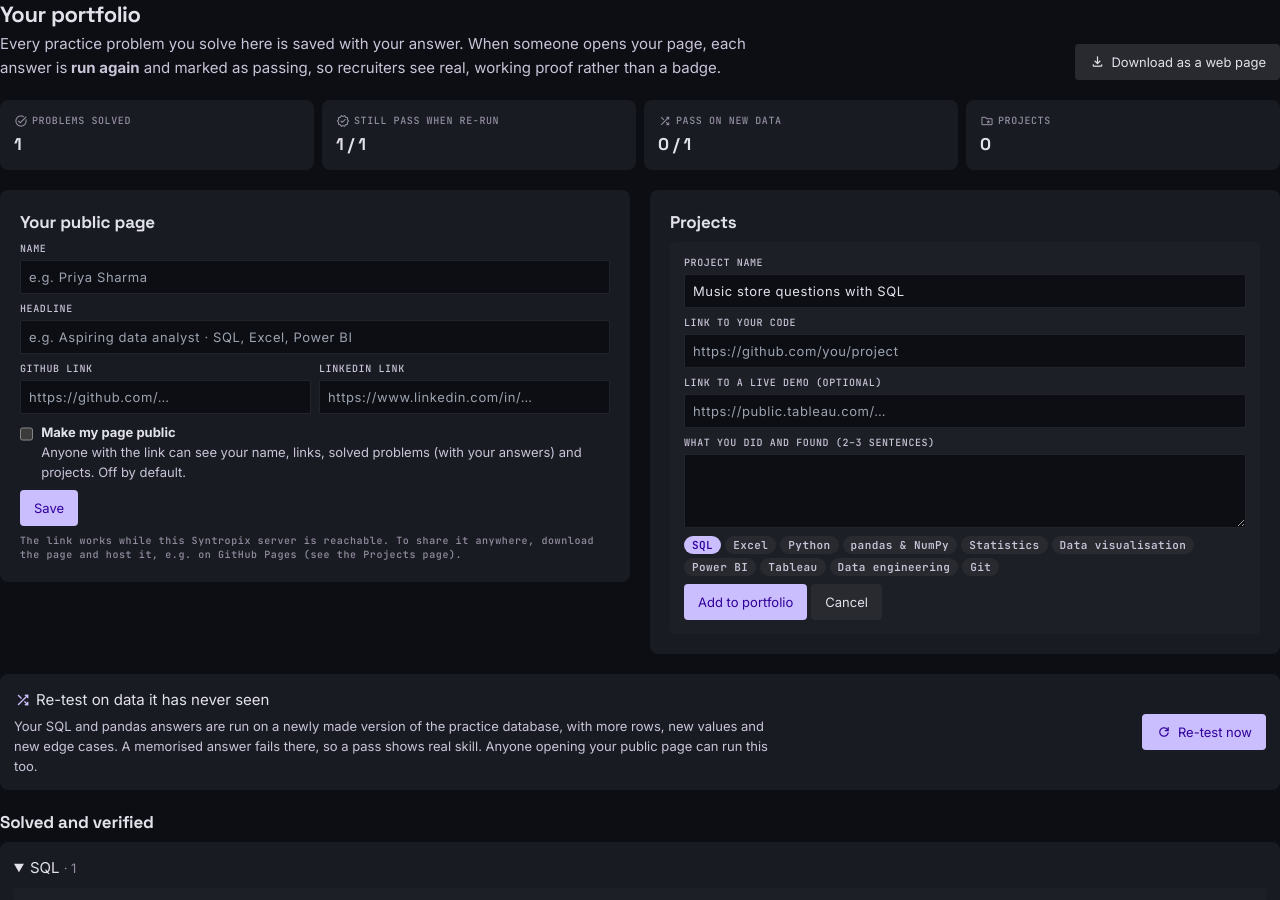
Scenario: portfolio › shows re-checked solves, publishes on consent and adds a project from the Projects page
Expected: the link "Open my public page" is not shown
Type "Ada" into the field labelled "Name" at (315, 277), box left=20, top=260, right=610, bottom=294
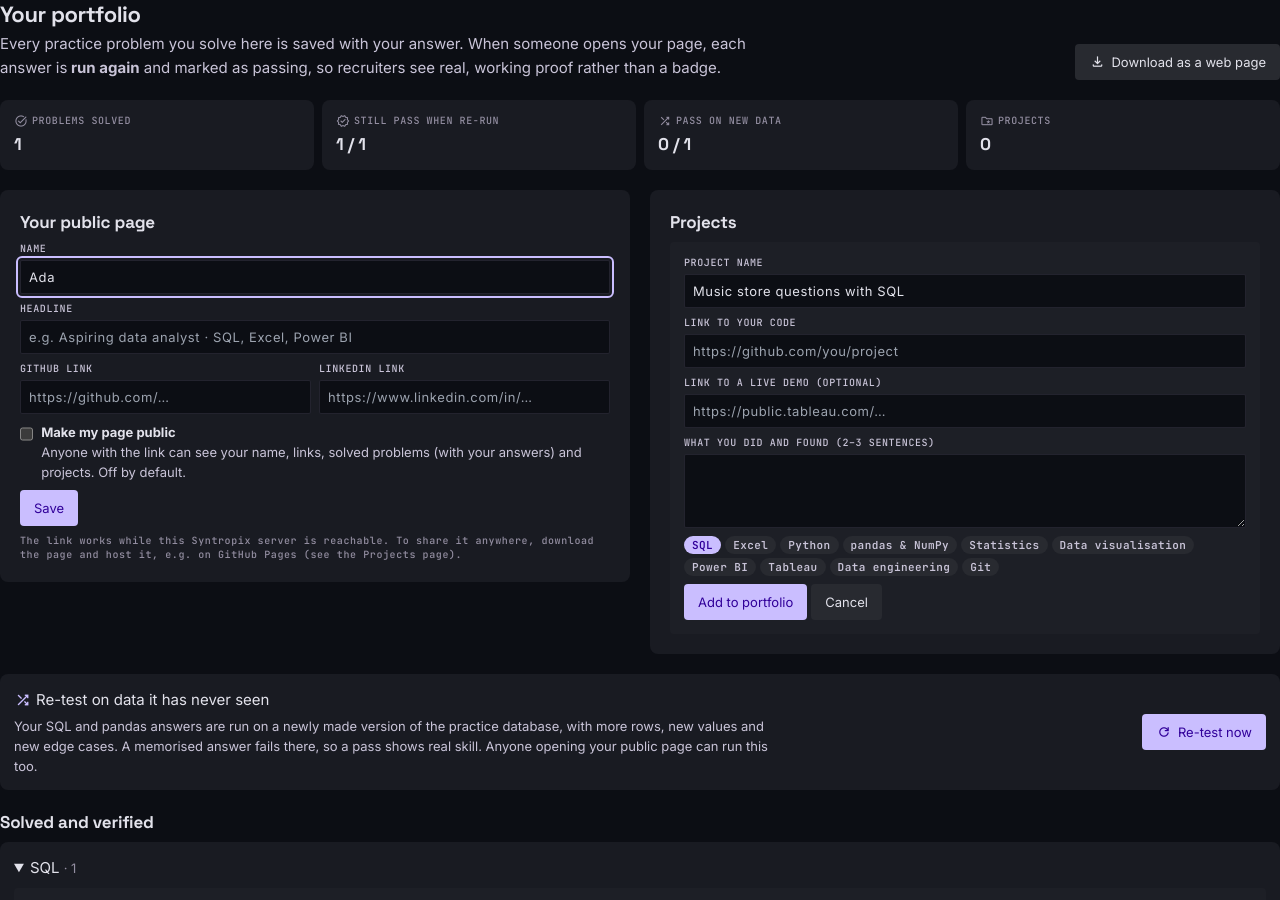
Click the checkbox labelled "Make my page public" at (27, 434), box left=20, top=426, right=33, bottom=442
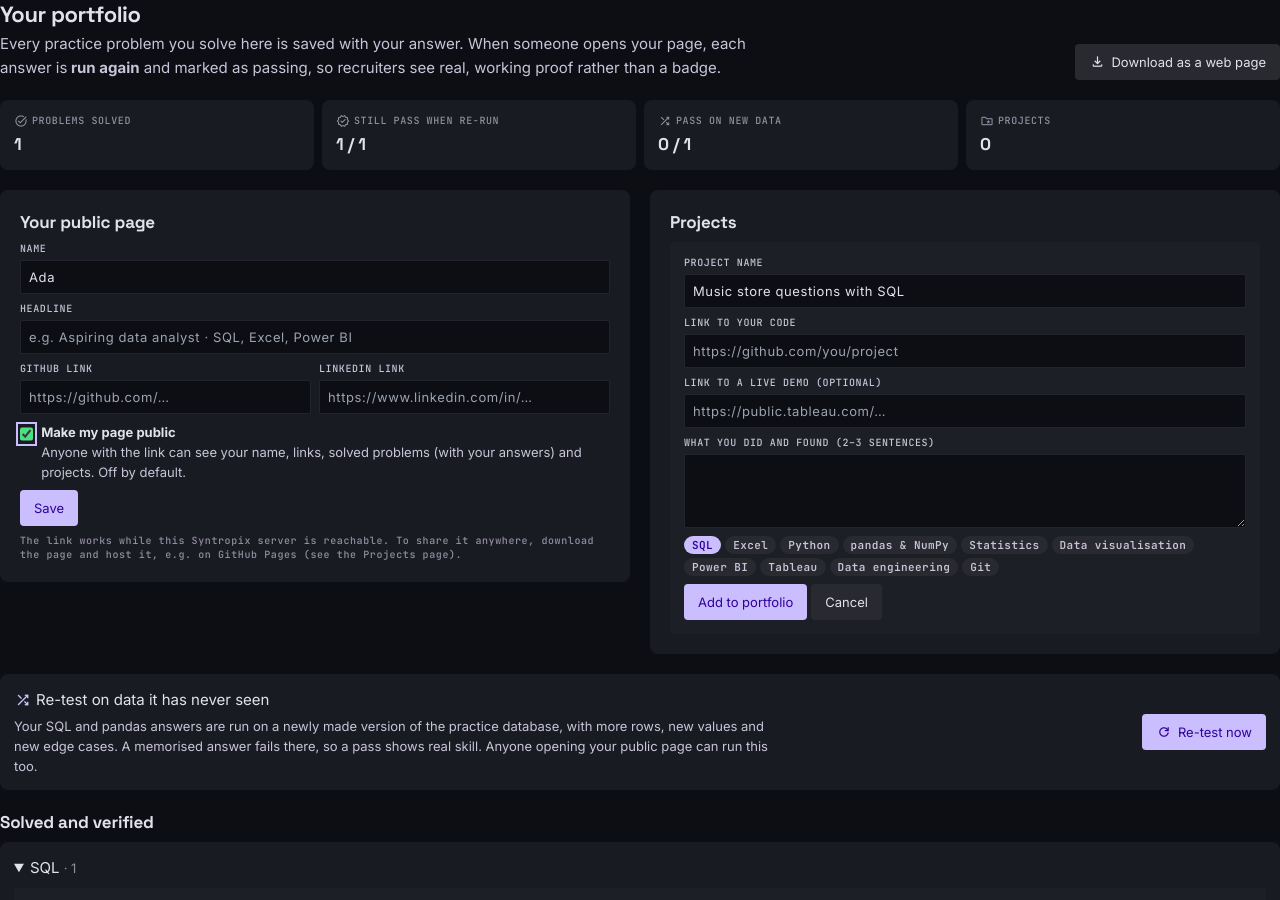
Click the button "Save" at (49, 508), box left=20, top=490, right=78, bottom=526
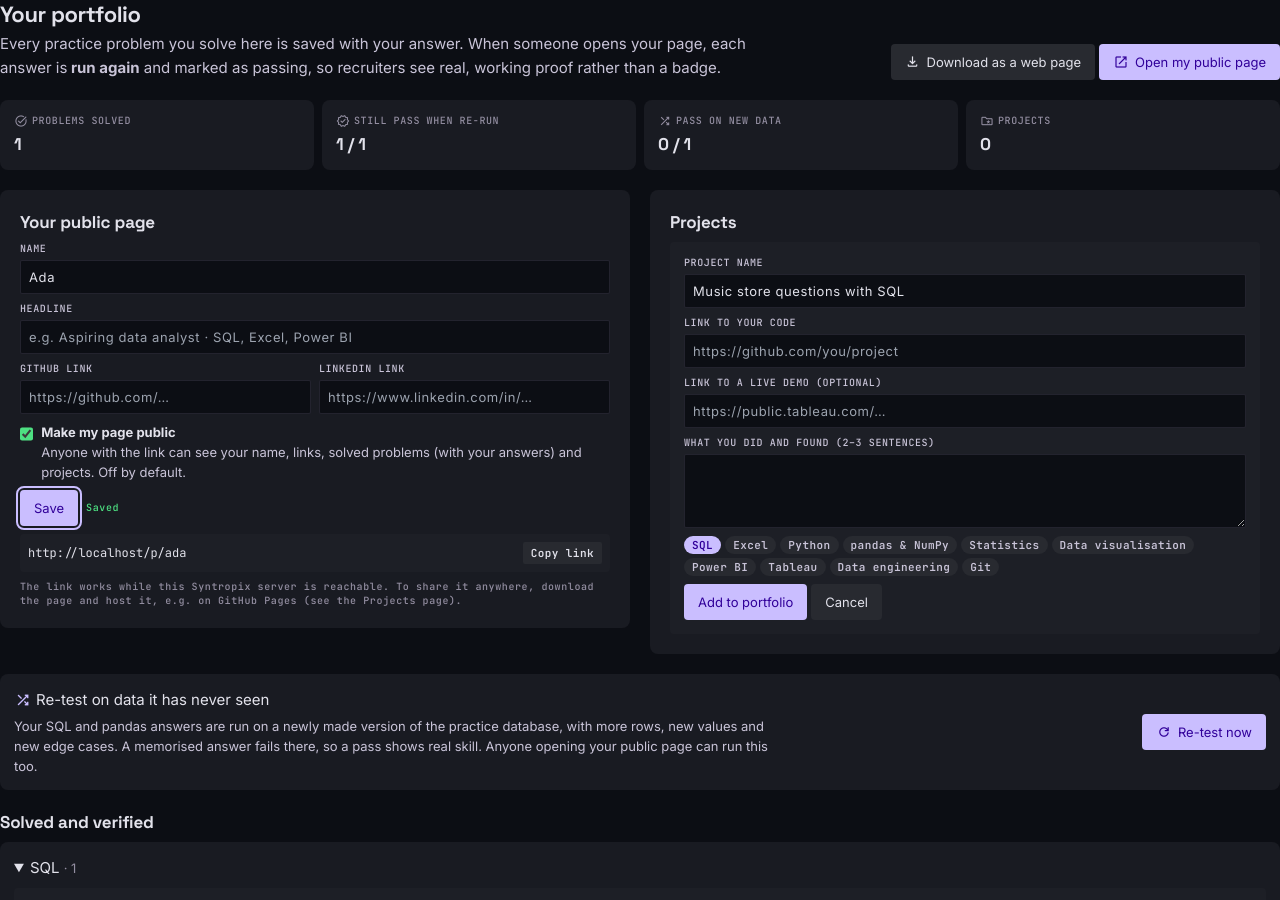
Expected: the field labelled "Project name" holds "Music store questions with SQL", left=684, top=274, right=1246, bottom=308
Type "https://github.com/ada/chinook" into the field labelled "Link to your code" at (965, 351), box left=684, top=334, right=1246, bottom=368
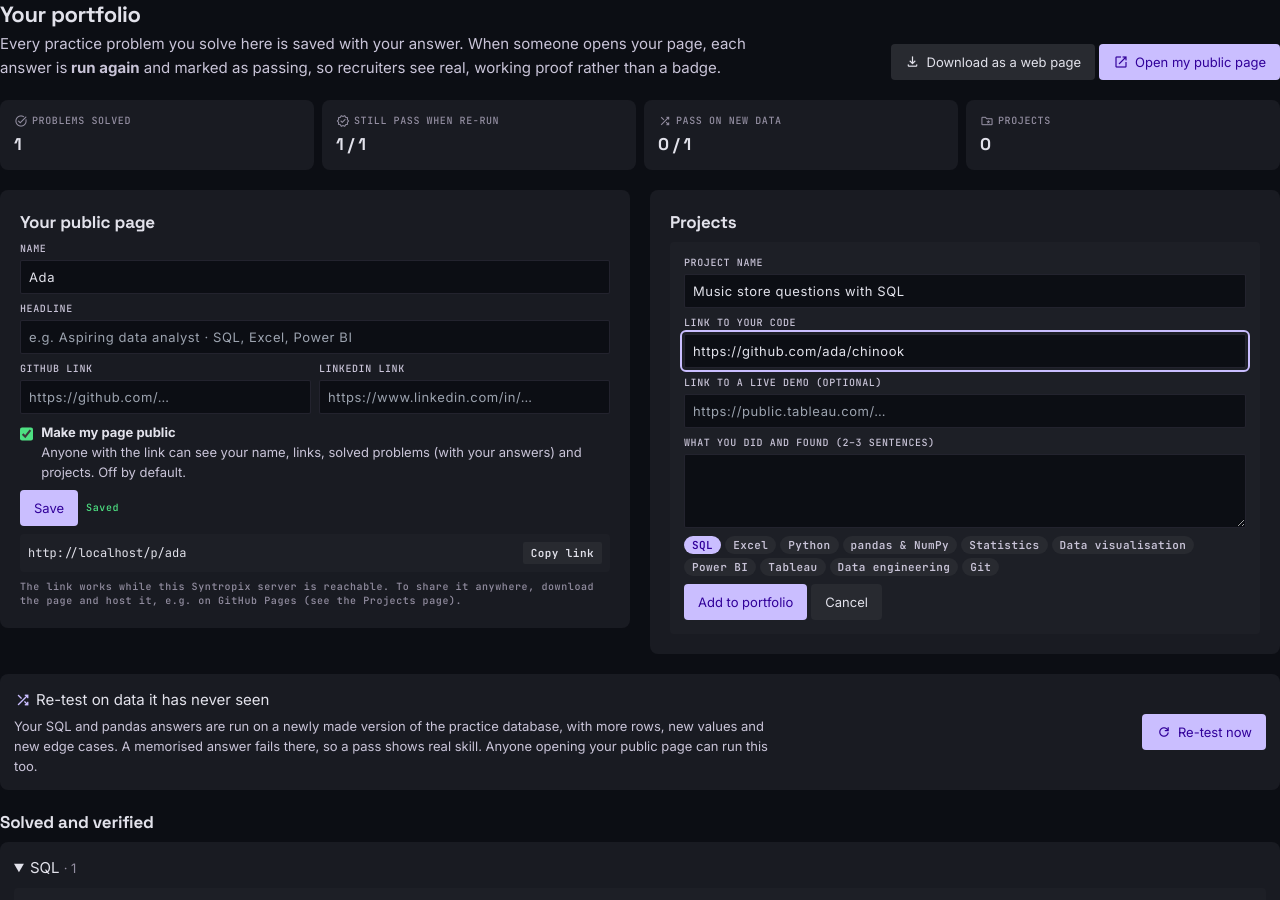
Click the button "Add to portfolio" at (746, 602), box left=684, top=584, right=807, bottom=620
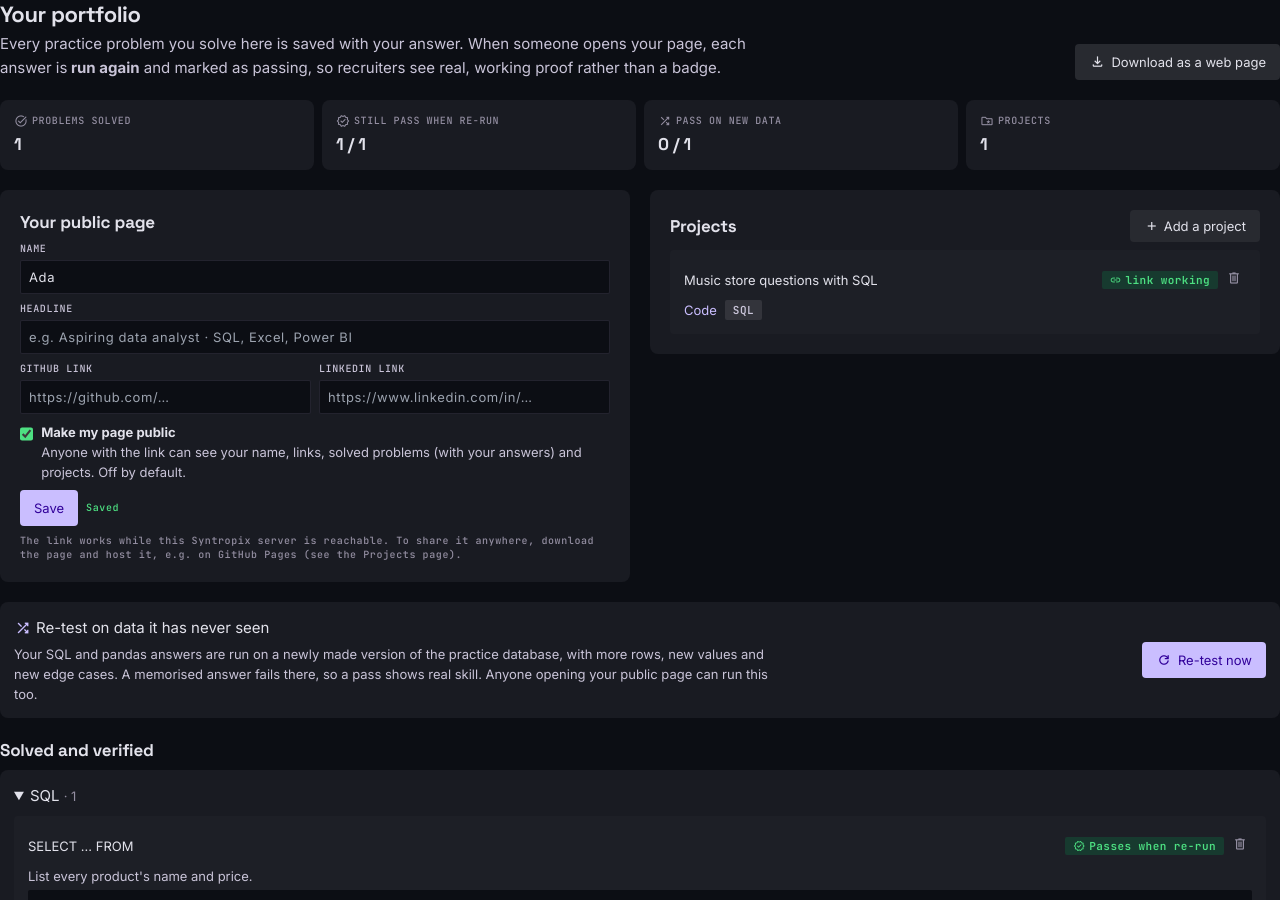
Result: the text "link working" is shown at left=1102, top=271, right=1218, bottom=289
